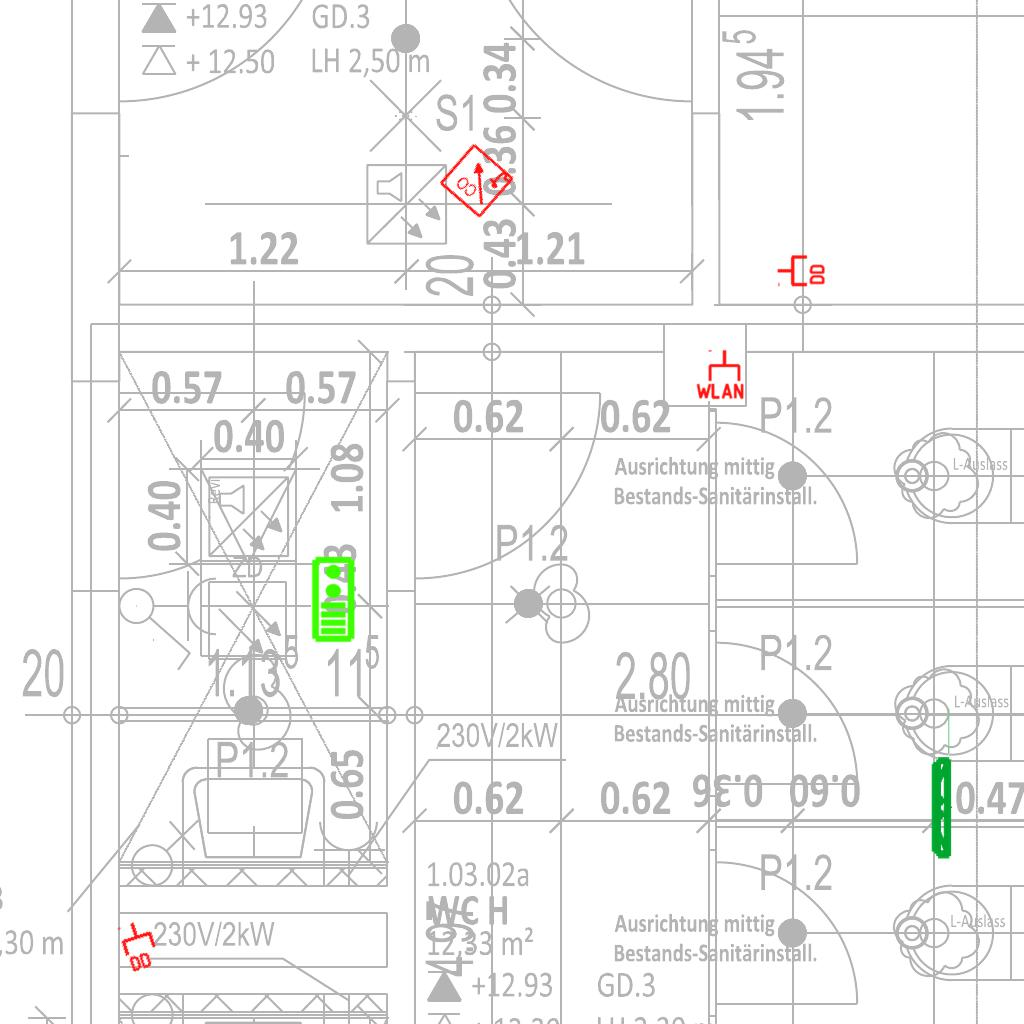Datenanschluss_zweifach: (115, 915, 165, 976), (776, 253, 827, 287)
Gegensprechanlage_mit_Video: (309, 555, 356, 643)
ROA_Rauchmelder_optisch_mit_Signalgeber_(Sockelsirene): (437, 140, 517, 220)
Sicherheitsleuchte_Wandeinbau: (928, 703, 953, 862)
WLAN: (694, 348, 746, 400)
